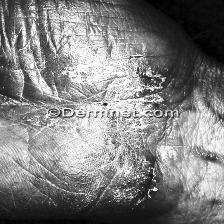Non-Cancerous Skin Condition: (119, 47, 168, 92), (126, 154, 157, 207), (65, 60, 125, 82)
